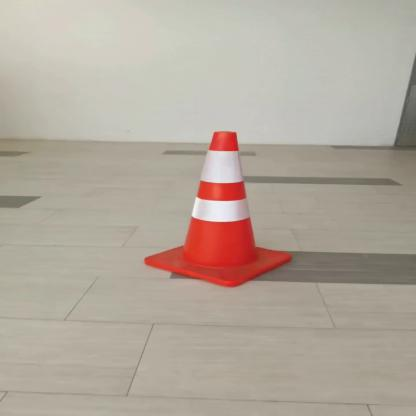cone: (137, 124, 299, 290)
